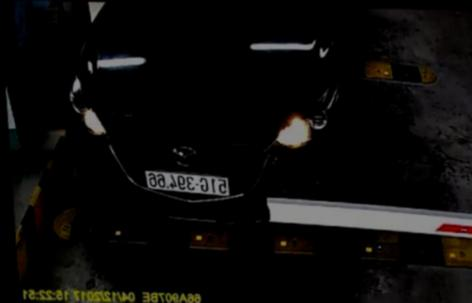License_Plate: (144, 169, 233, 198)
